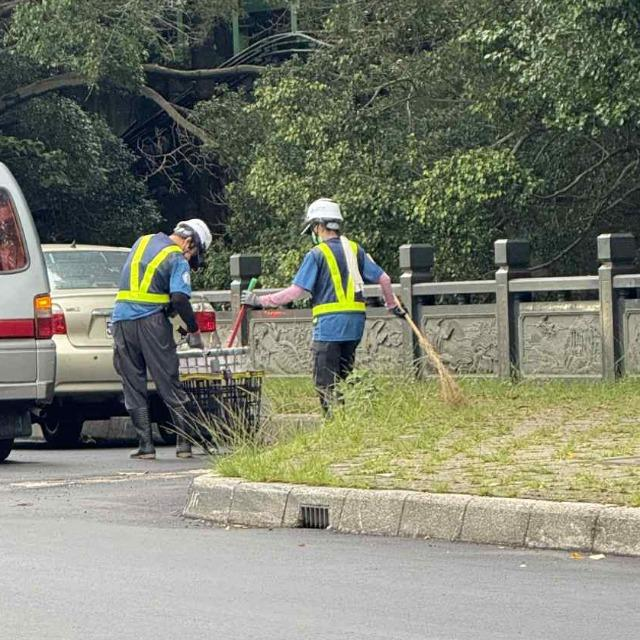Vest: (298, 236, 374, 325)
